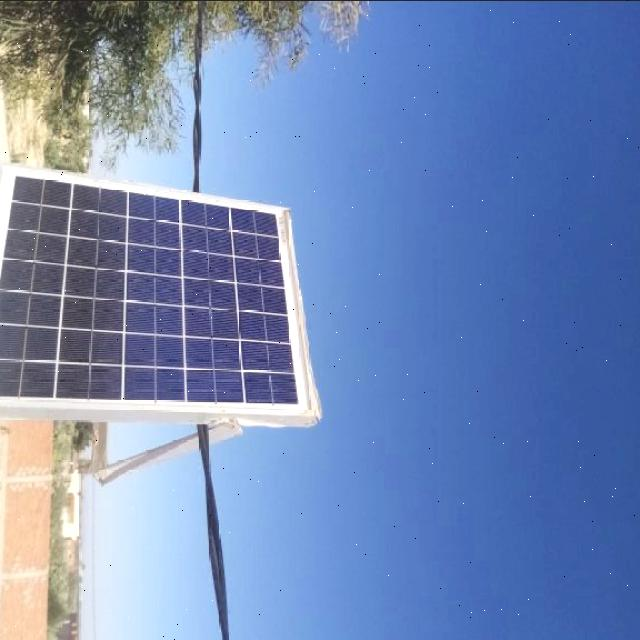Normal Solar Panel: (0, 171, 311, 418)
